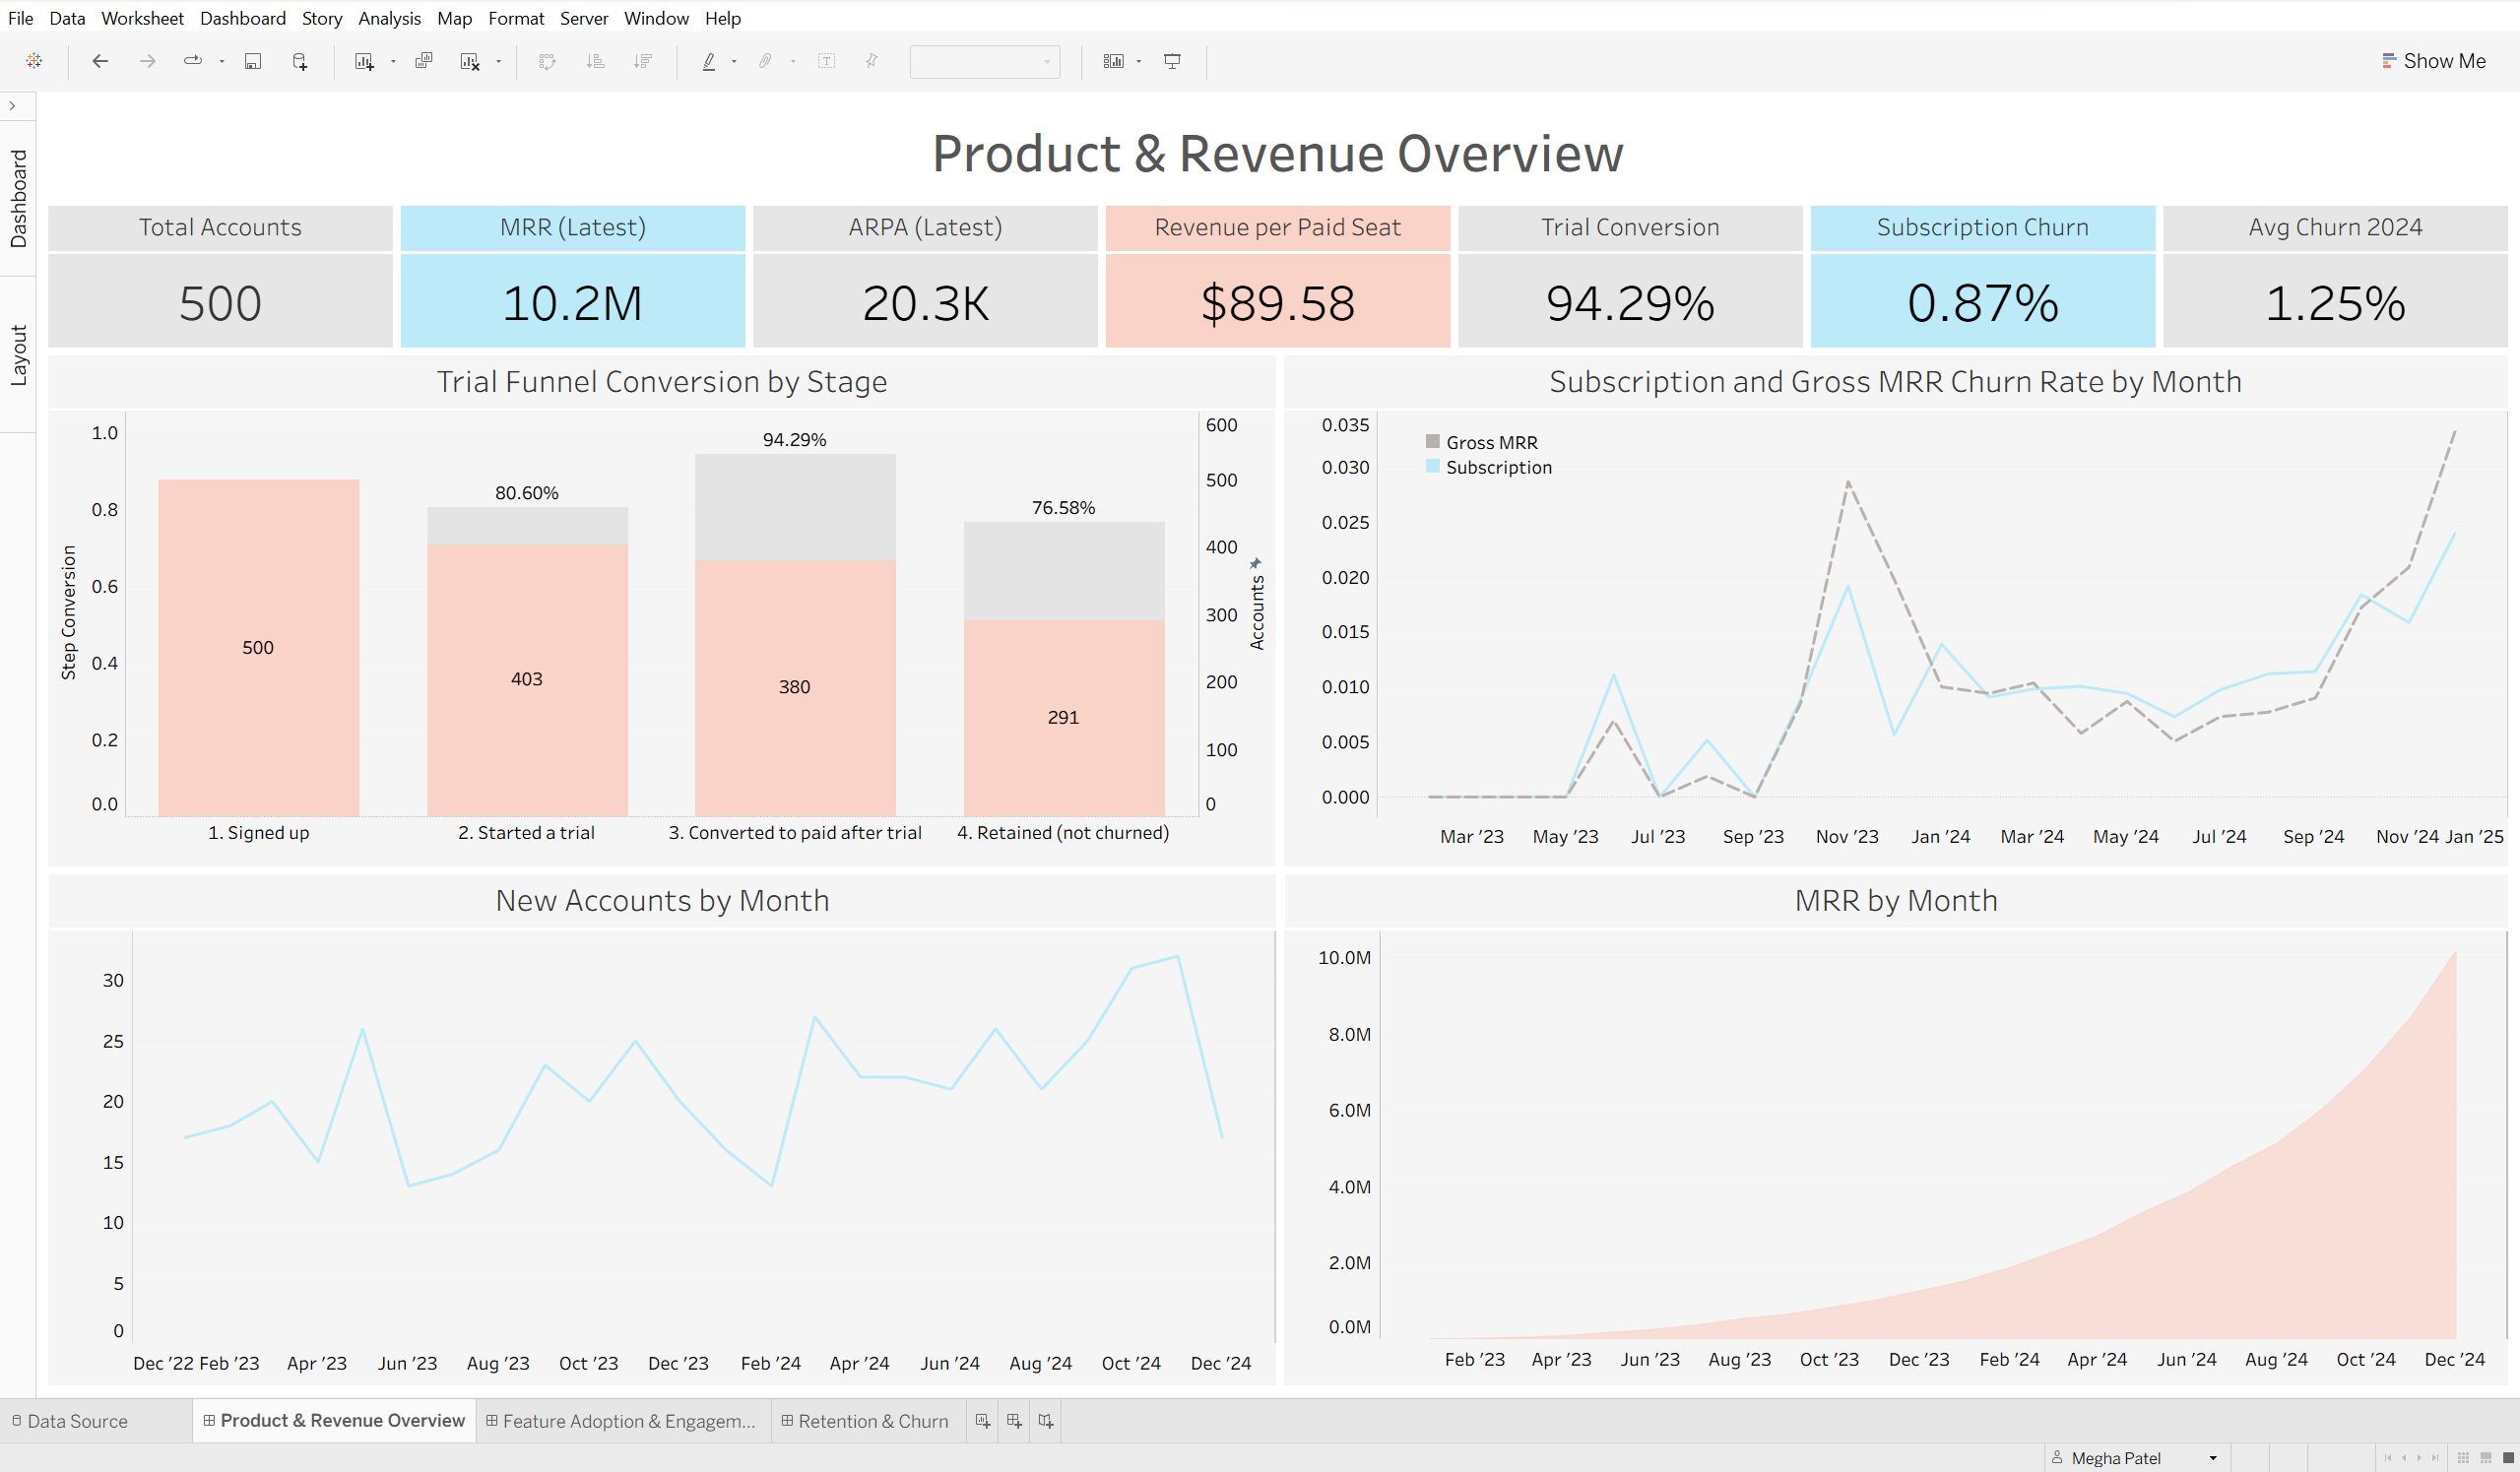

The dashboard page shown, as its layout file describes it:
{"tool":"tableau","page":{"name":"Product & Revenue Overview","canvas":[1000,1000],"units":"permille","ordinal":1},"visuals":[{"type":"text","box":[3.2,6,993.7,78.3]},{"type":"worksheet","title":"Total Accounts","mark":"Automatic","box":[3.2,84.5,142,114.6]},{"type":"worksheet","title":"MRR (Latest)","mark":"Automatic","box":[145.1,84.5,142,114.6]},{"type":"worksheet","title":"ARPA (Latest)","mark":"Automatic","box":[287.1,84.5,142,114.6]},{"type":"worksheet","title":"Revenue per Paid Seat","mark":"Automatic","box":[429,84.5,142,114.6]},{"type":"worksheet","title":"Trial-to-Paid Conversion","mark":"Automatic","box":[571,84.5,142,114.6]},{"type":"worksheet","title":"Subscription Churn","mark":"Automatic","box":[712.9,84.5,142,114.6]},{"type":"worksheet","title":"Avg Monthly Subscription Churn 2024","mark":"Automatic","box":[854.9,84.5,142,114.6]},{"type":"worksheet","title":"Trial Funnel Conversion by Stage","mark":"Bar","rows":["step_conversion","accounts"],"cols":["stage"],"box":[3.2,199.1,497.6,397.4]},{"type":"worksheet","title":"Subscription and Gross MRR Churn Rate by Month","mark":"Automatic","rows":["subscription_churn_rate","gross_mrr_churn_rate"],"cols":["month"],"box":[500.8,199.1,496,397.4]},{"type":"legend","title":"Subscription and Gross MRR Churn Rate by Month","param":"[federated.0xa7pz70vvi4gl13zjwsc08ix45f].[:Measure Names]","box":[557.5,258.7,62.8,57.3]},{"type":"worksheet","title":"New Accounts by Month","mark":"Line","rows":["Calculation_1220502530232321"],"cols":["signup_month"],"box":[3.2,596.5,497.6,397.4]},{"type":"worksheet","title":"MRR by Month","mark":"Area","rows":["mrr"],"cols":["month"],"box":[500.8,596.5,496,397.4]}]}

Visuals, with their boxes on the dashboard's canvas, which has no fixed pixel size, in thousandths of its width and height (x1, y1, x2, y2). These are canvas units, not pixel positions in the 2520x1472 screenshot, which may show the page scaled, cropped or inside an application window:
text: 3, 6, 997, 84
"Total Accounts" worksheet: 3, 84, 145, 199
"MRR (Latest)" worksheet: 145, 84, 287, 199
"ARPA (Latest)" worksheet: 287, 84, 429, 199
"Revenue per Paid Seat" worksheet: 429, 84, 571, 199
"Trial-to-Paid Conversion" worksheet: 571, 84, 713, 199
"Subscription Churn" worksheet: 713, 84, 855, 199
"Avg Monthly Subscription Churn 2024" worksheet: 855, 84, 997, 199
"Trial Funnel Conversion by Stage" worksheet (Bar marks): 3, 199, 501, 596
"Subscription and Gross MRR Churn Rate by Month" worksheet: 501, 199, 997, 596
"Subscription and Gross MRR Churn Rate by Month" legend: 558, 259, 620, 316
"New Accounts by Month" worksheet (Line marks): 3, 596, 501, 994
"MRR by Month" worksheet (Area marks): 501, 596, 997, 994
